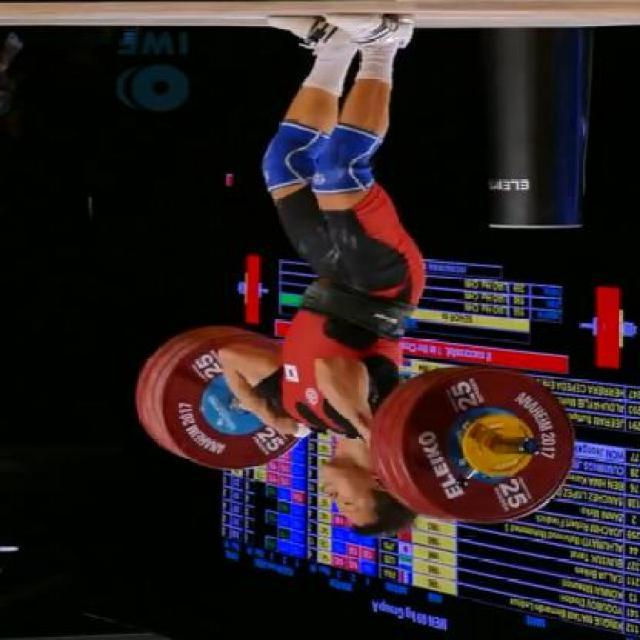Barbell: (516, 434, 546, 458)
